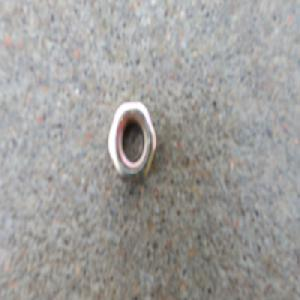Nut: (106, 98, 158, 186)
